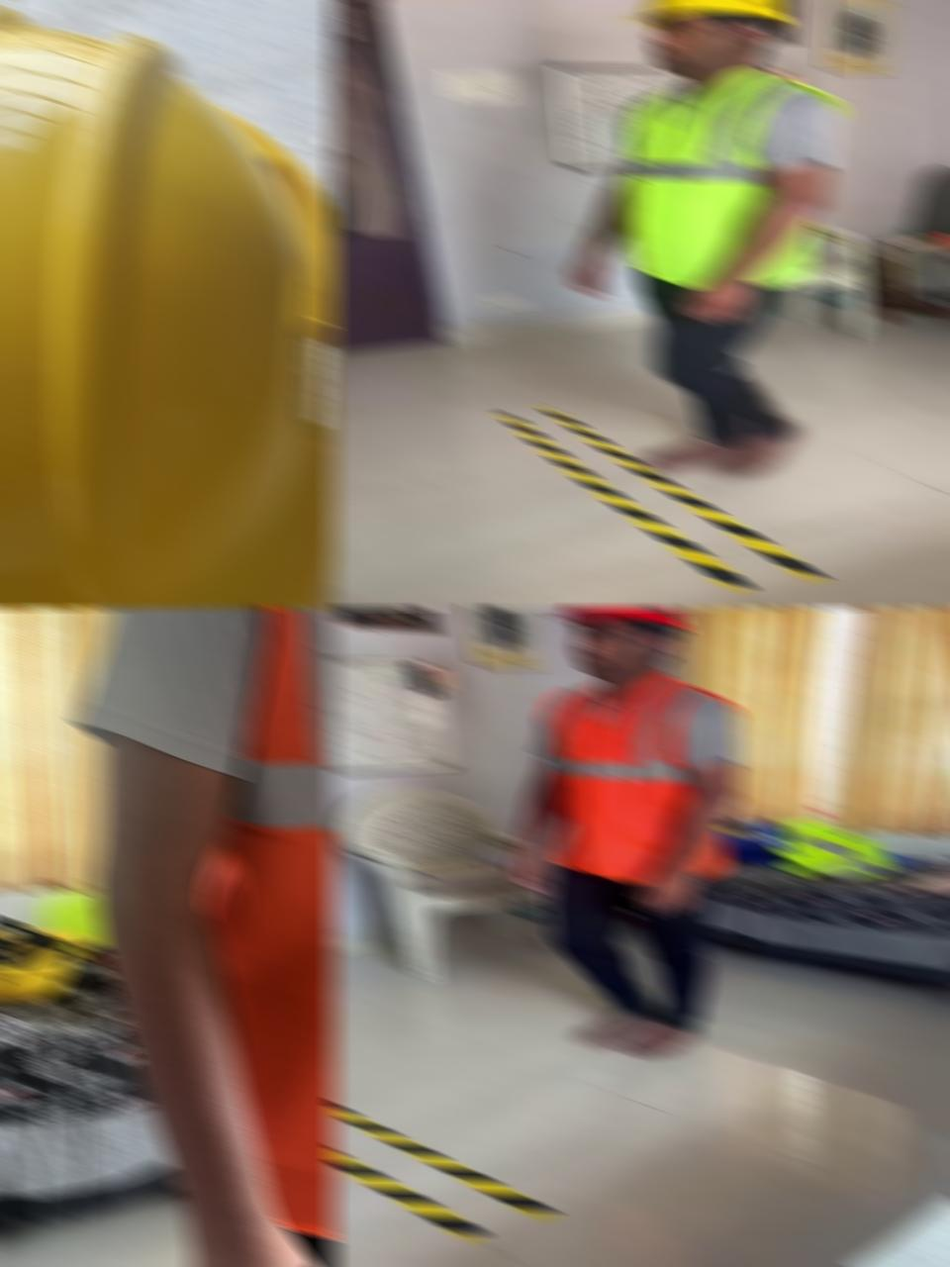BorderLine: (493, 403, 833, 593), (328, 1100, 559, 1242)
Helmet: (0, 0, 336, 609), (620, 0, 792, 27), (546, 606, 691, 631)
Person: (69, 606, 336, 1267), (565, 0, 847, 476), (507, 606, 746, 1059)
Vest: (168, 606, 337, 1240), (618, 68, 848, 288), (539, 670, 742, 883)
